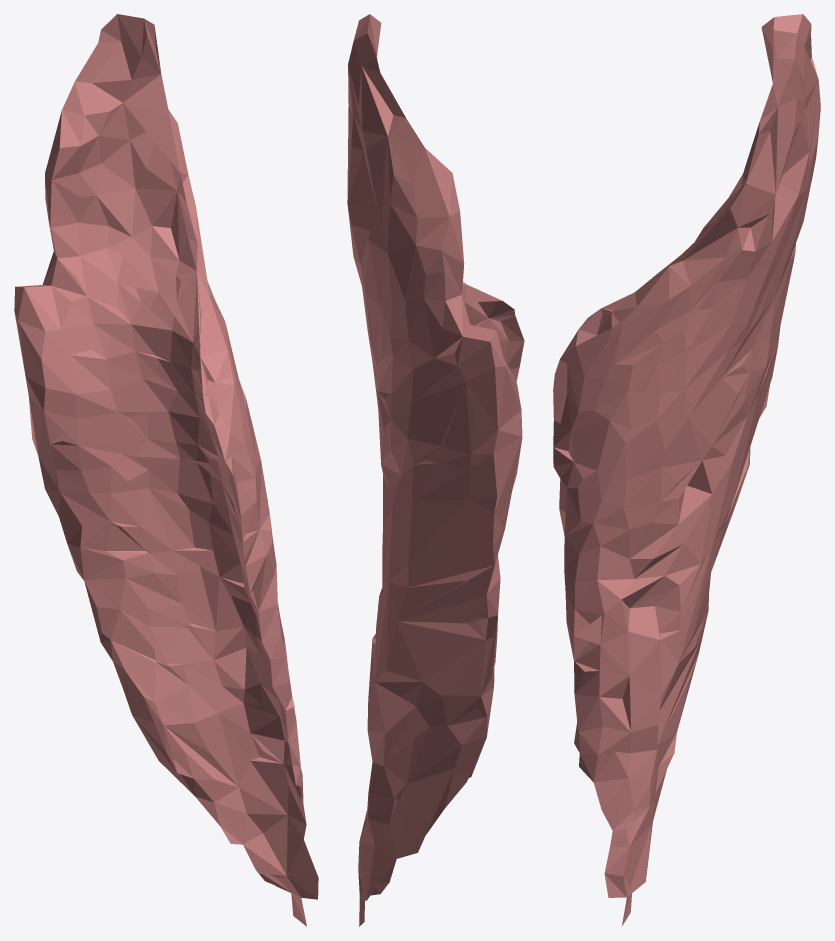
Rendered from Supinator.l.glb.
3 renders of one model, left to right at view 1: azimuth 30°, elevation 25°; view 2: azimuth 150°, elevation 25°; view 3: azimuth 270°, elevation 25°, orthographic. The views are drawn at different scales.
Parts seen in each view (by area): view 1: Supinator.l; view 2: Supinator.l; view 3: Supinator.l.
Boxes of the visible parts, box(x1,y1,x2,y2) form: Supinator.l: box(14, 14, 318, 926); Supinator.l: box(347, 14, 524, 926); Supinator.l: box(553, 14, 820, 925).
Size of the model in its own units: 0.0319 by 0.1253 by 0.035.
